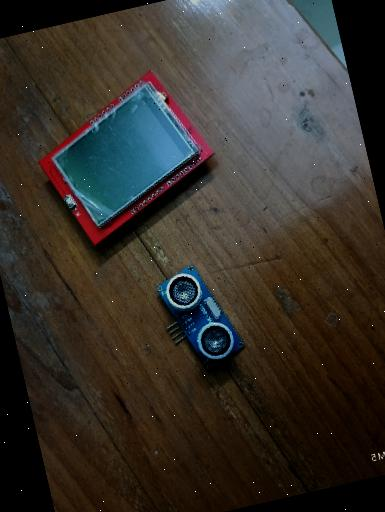Display: (21, 56, 232, 256)
sensor: (149, 254, 250, 379)
